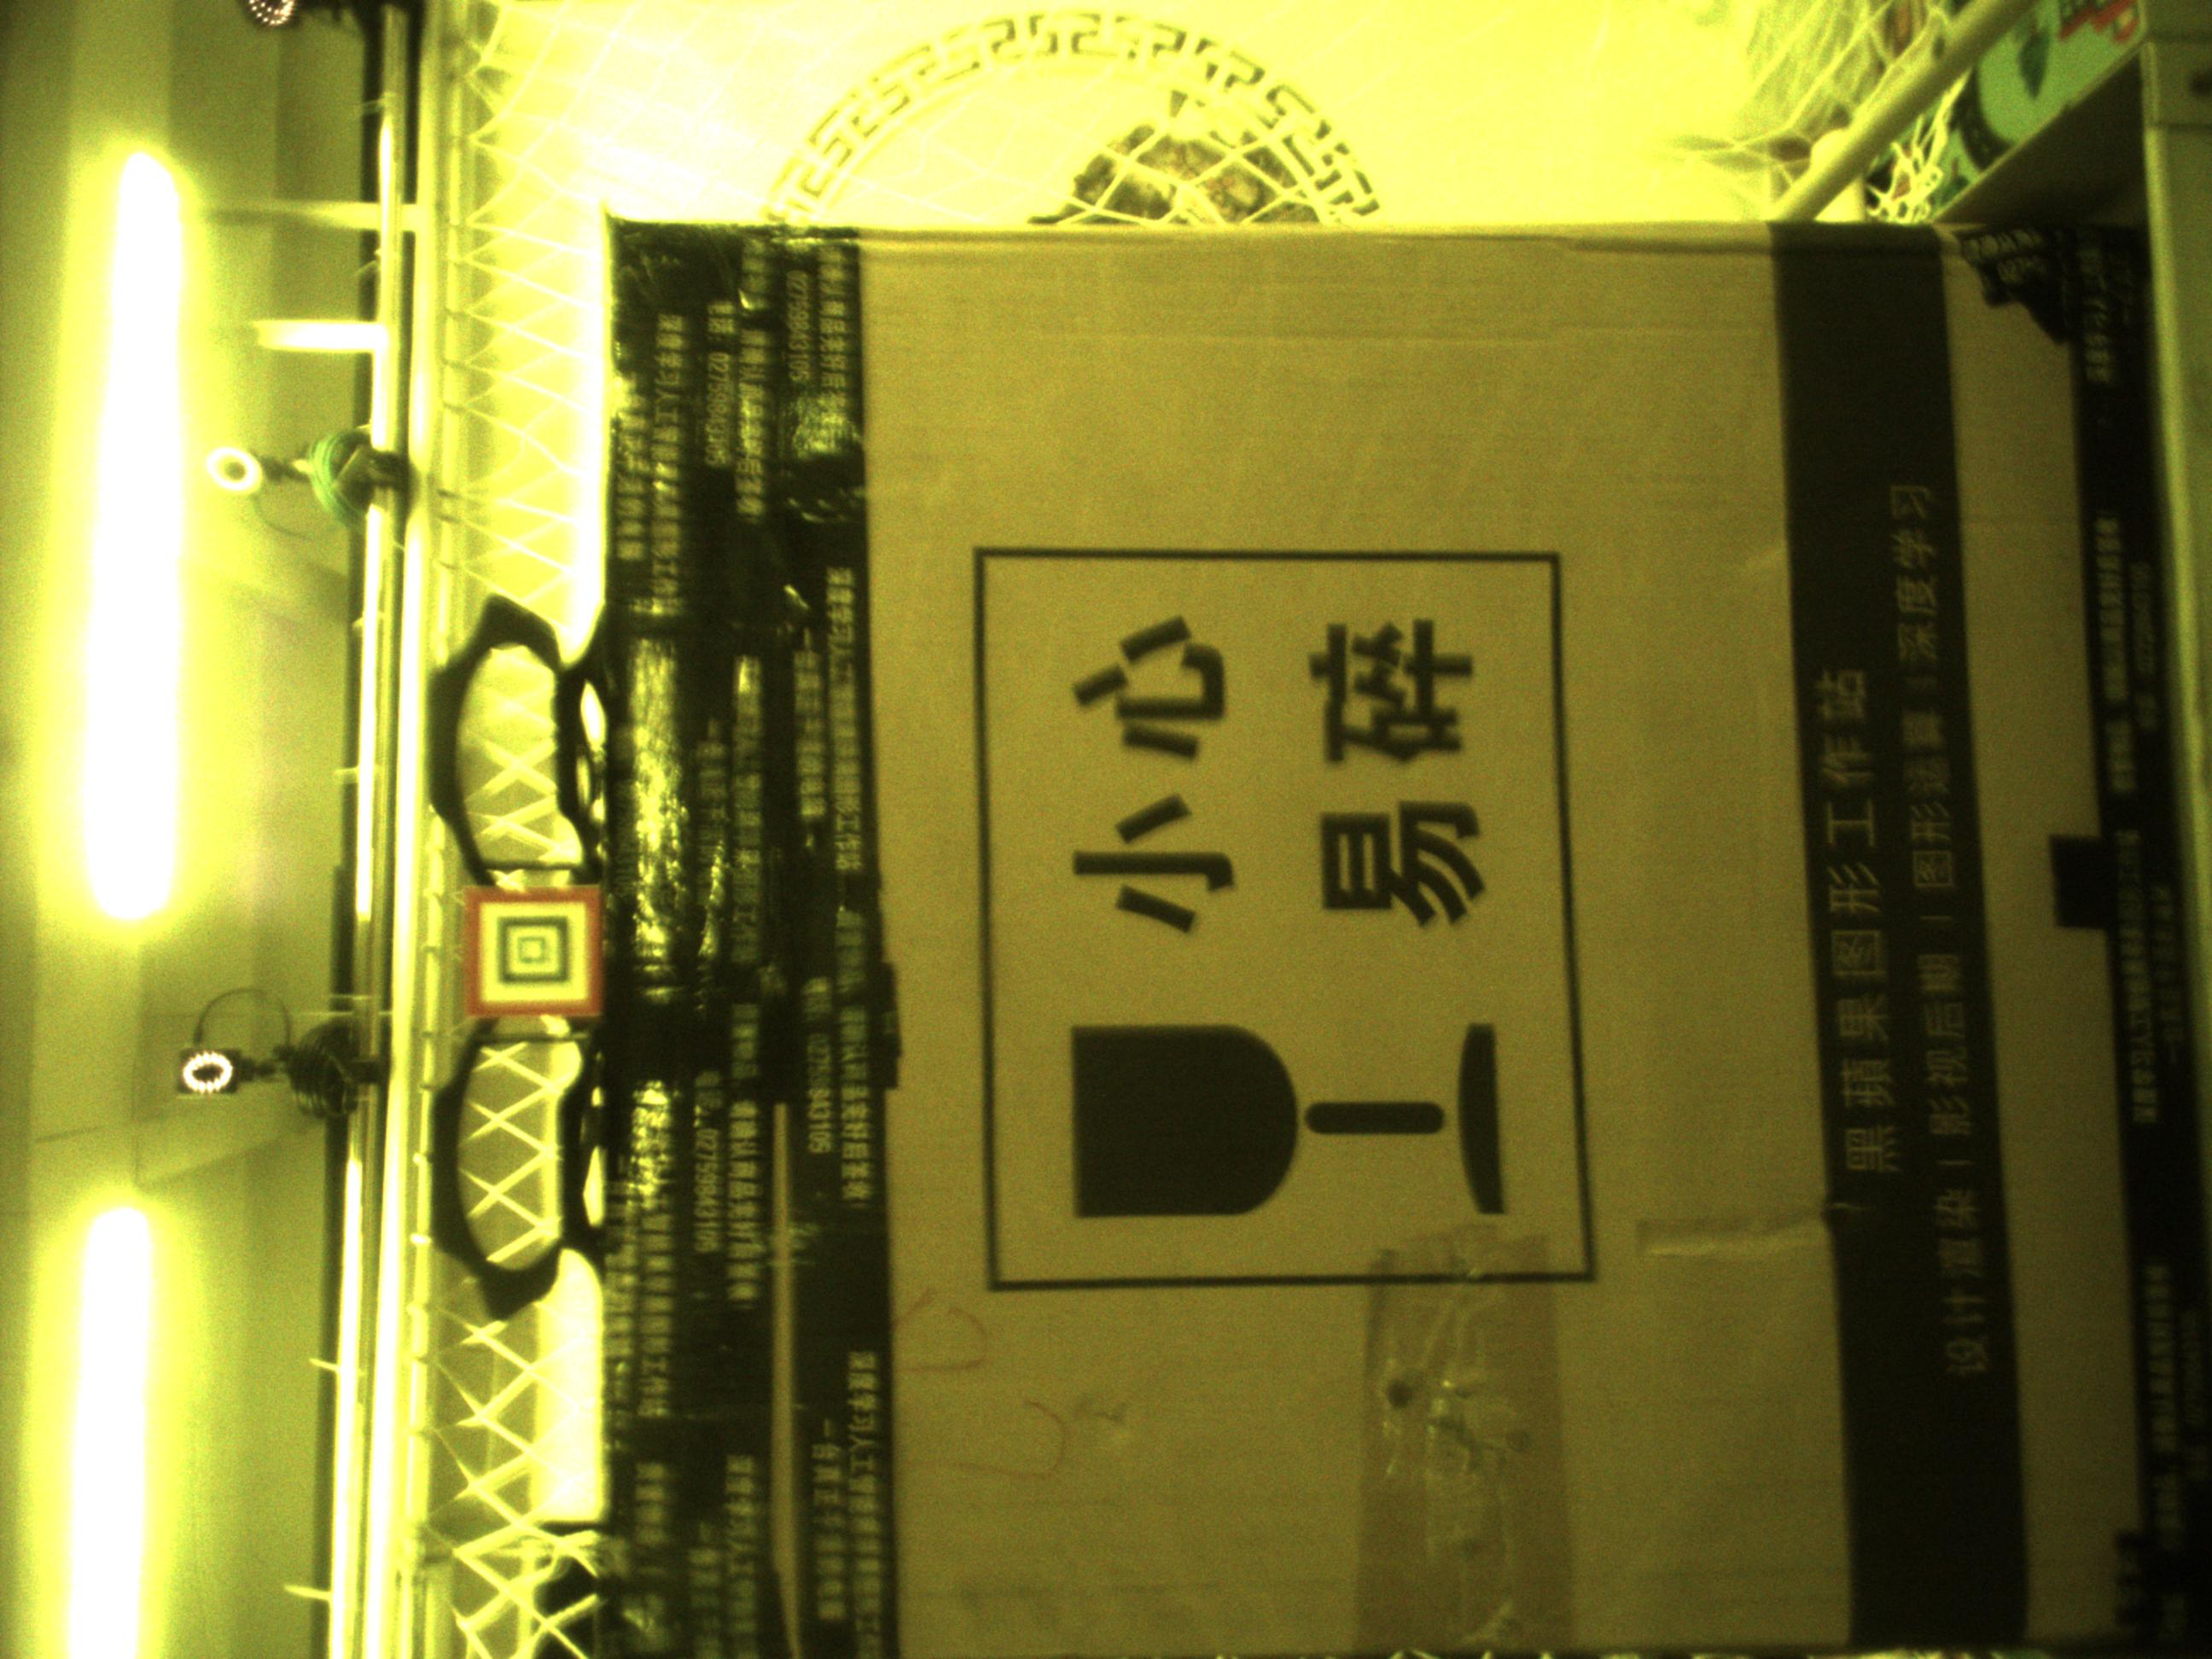outline: (465, 889, 601, 1016)
